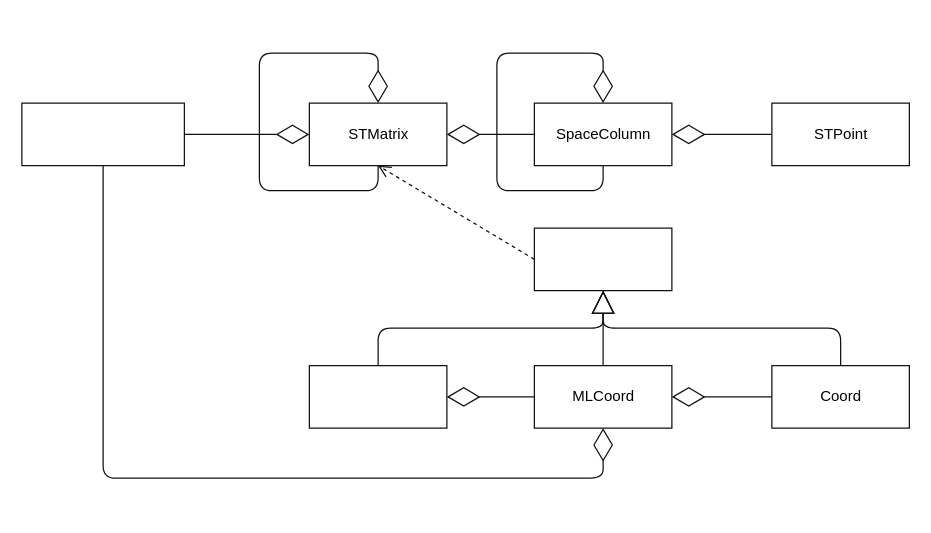
Image size: 931x533. Some labels were removed from this diagram. Here are the shapes that lost their labels. From the top down, the box of each, then its label:
(21, 102, 184, 166): CoordinatesProperty 没实现
(533, 227, 672, 291): STScope
(308, 364, 447, 428): STInterval
